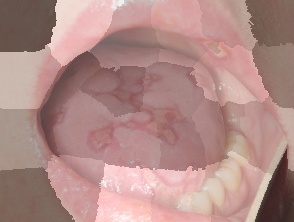SJS-TEN: (17, 0, 294, 222)
